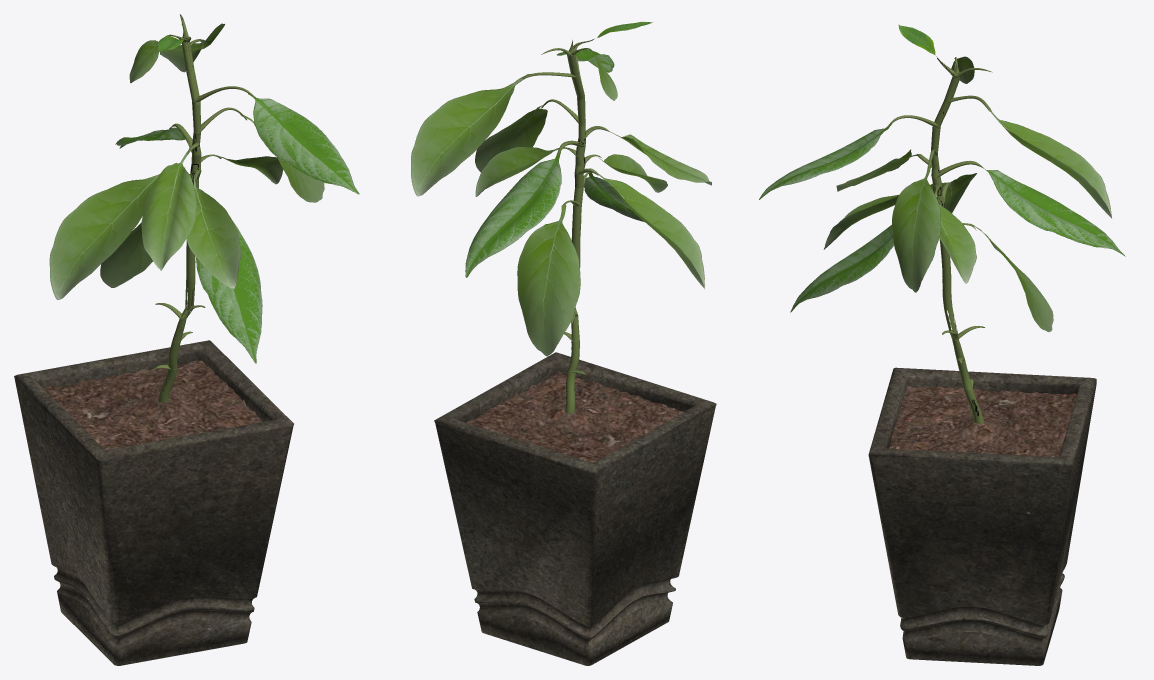
File: avocado.glb
3 renders of one model, left to right at view 1: azimuth 30°, elevation 25°; view 2: azimuth 150°, elevation 25°; view 3: azimuth 270°, elevation 25°, orthographic. The views are drawn at different scales.
Visible parts, largest first — view 1: gorshok_0, list5_3, zemla_1, stebel_2; view 2: gorshok_0, list5_3, zemla_1, stebel_2; view 3: gorshok_0, list5_3, zemla_1, stebel_2.
Boxes of the visible parts, x1,y1,x2,y2 form: gorshok_0: [14, 340, 293, 665]; list5_3: [49, 23, 359, 363]; zemla_1: [43, 360, 262, 450]; stebel_2: [154, 14, 256, 402]; gorshok_0: [434, 352, 716, 665]; list5_3: [411, 21, 711, 356]; zemla_1: [466, 371, 684, 462]; stebel_2: [521, 39, 609, 413]; gorshok_0: [868, 367, 1096, 665]; list5_3: [759, 24, 1125, 331]; zemla_1: [889, 385, 1076, 457]; stebel_2: [886, 56, 992, 423].
Size of the model in its own units: 0.3326 by 0.7525 by 0.447.
7 materials, 7 textured.
